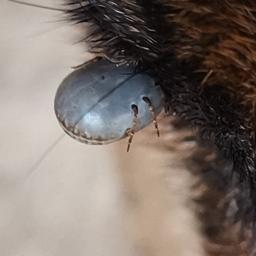Rhipicephalus sanguineus: (53, 56, 166, 154)
